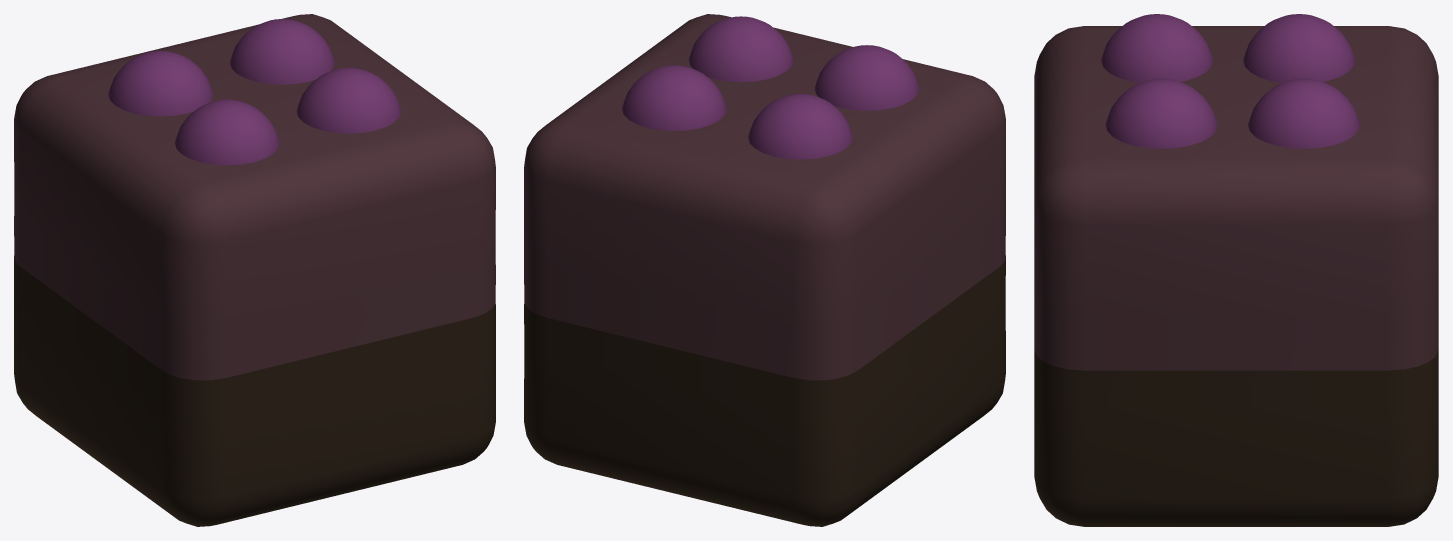
Rendered from pralinka5.fbx.
The picture shows the model from 3 angles, left to right: view 1: azimuth 30°, elevation 25°; view 2: azimuth 150°, elevation 25°; view 3: azimuth 270°, elevation 25°; orthographic projection. The views are drawn at different scales.
Visible parts, largest first — view 1: Cube; view 2: Cube; view 3: Cube.
Boxes of the visible parts, x1,y1,x2,y2 form: Cube: (14, 14, 495, 526); Cube: (524, 14, 1005, 526); Cube: (1034, 14, 1438, 526).
Bounding box in the file's own units: 200 × 221 × 200.
